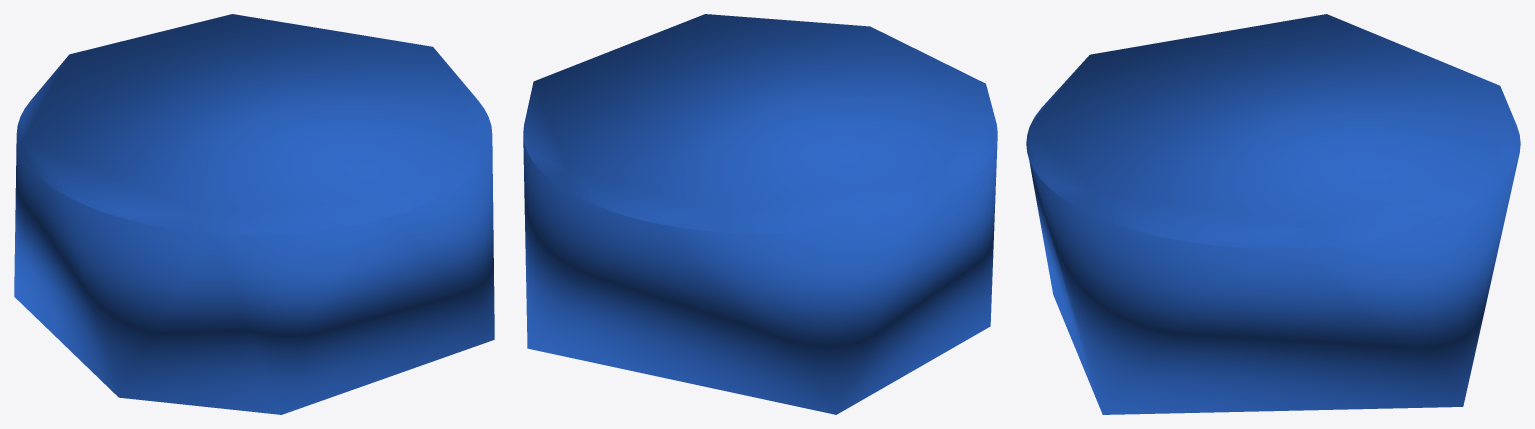
File: SM_Cap_GL45.glb
The picture shows the model from 3 angles, left to right: view 1: azimuth 30°, elevation 25°; view 2: azimuth 150°, elevation 25°; view 3: azimuth 270°, elevation 25°; orthographic projection. The views are drawn at different scales.
Parts seen in each view (by area): view 1: SM_Cap_GL45; view 2: SM_Cap_GL45; view 3: SM_Cap_GL45.
Part boxes in pixels (left/top/right/bottom): SM_Cap_GL45: left=14, top=14, right=494, bottom=414; SM_Cap_GL45: left=523, top=14, right=997, bottom=414; SM_Cap_GL45: left=1026, top=14, right=1520, bottom=414.
Size of the model in its own units: 0.054 by 0.0261 by 0.054.
